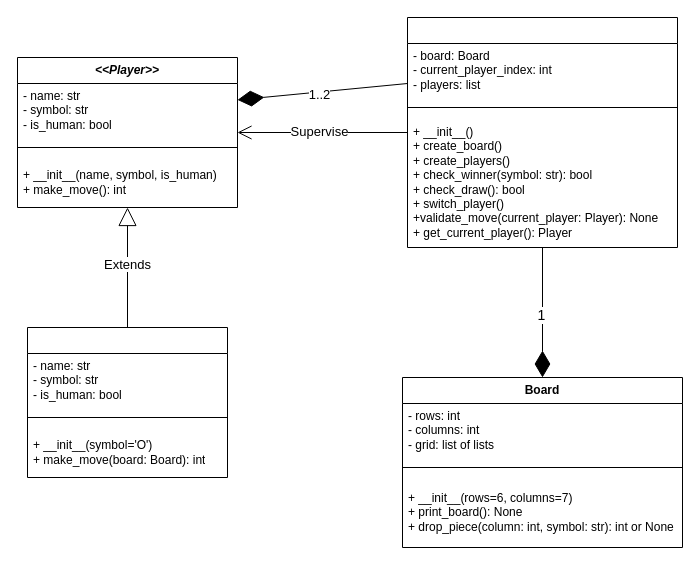
The diagram is 700 pixels wide and 565 high, and some of its shapes have lost their labels. Each missing label, with the box of its shape:
CpuPlayer: (26, 326, 228, 478)
Judge: (406, 16, 678, 248)
